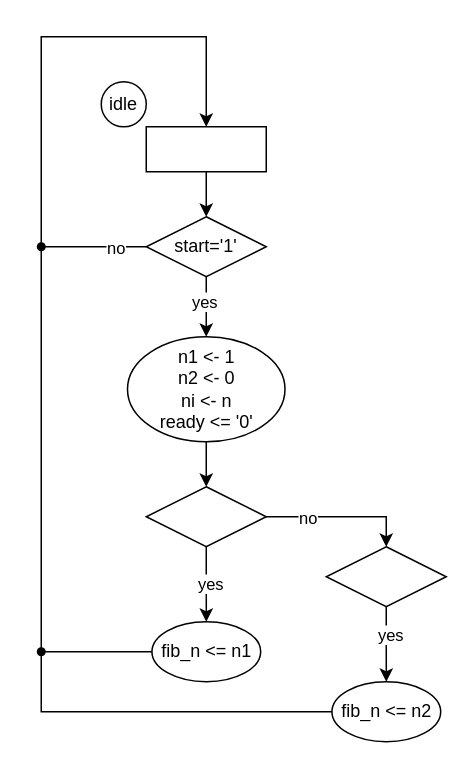
Some shapes in this 473 by 768 pixel diagram are drawn without their labels. Here are the shapes that lost their labels. From the top down, the centre of each, then its label:
At (205,148): "ready <= '1'".
At (205,516): "n = 0".
At (385,576): "n = 1".
